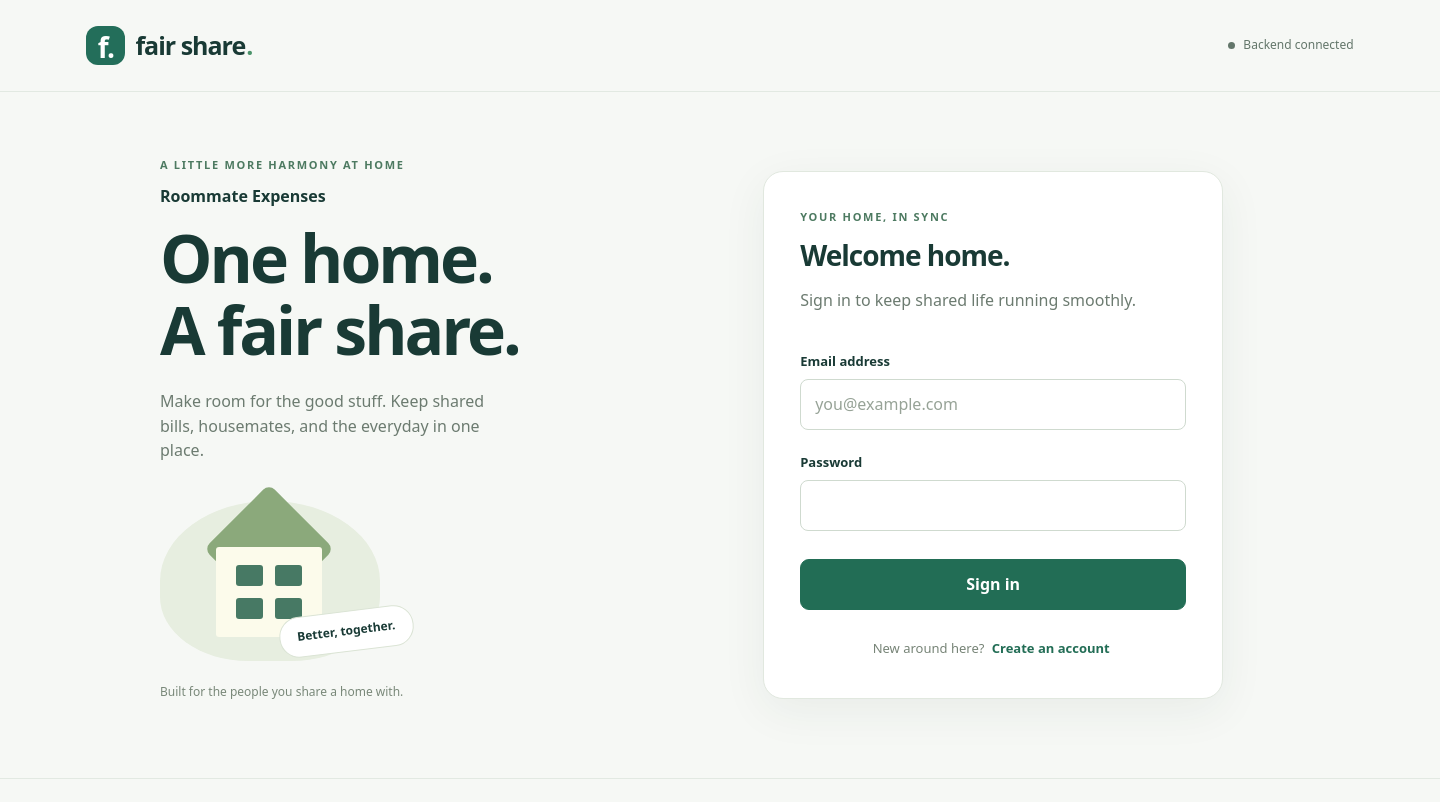
Test: account screens › shows safe sign-in errors and clears the password
Expected: the button "Sign in" is shown, [800,559,1186,610]
Type "alice@example.com" into the field labelled "Email address" at (993, 405), box [800,379,1186,430]
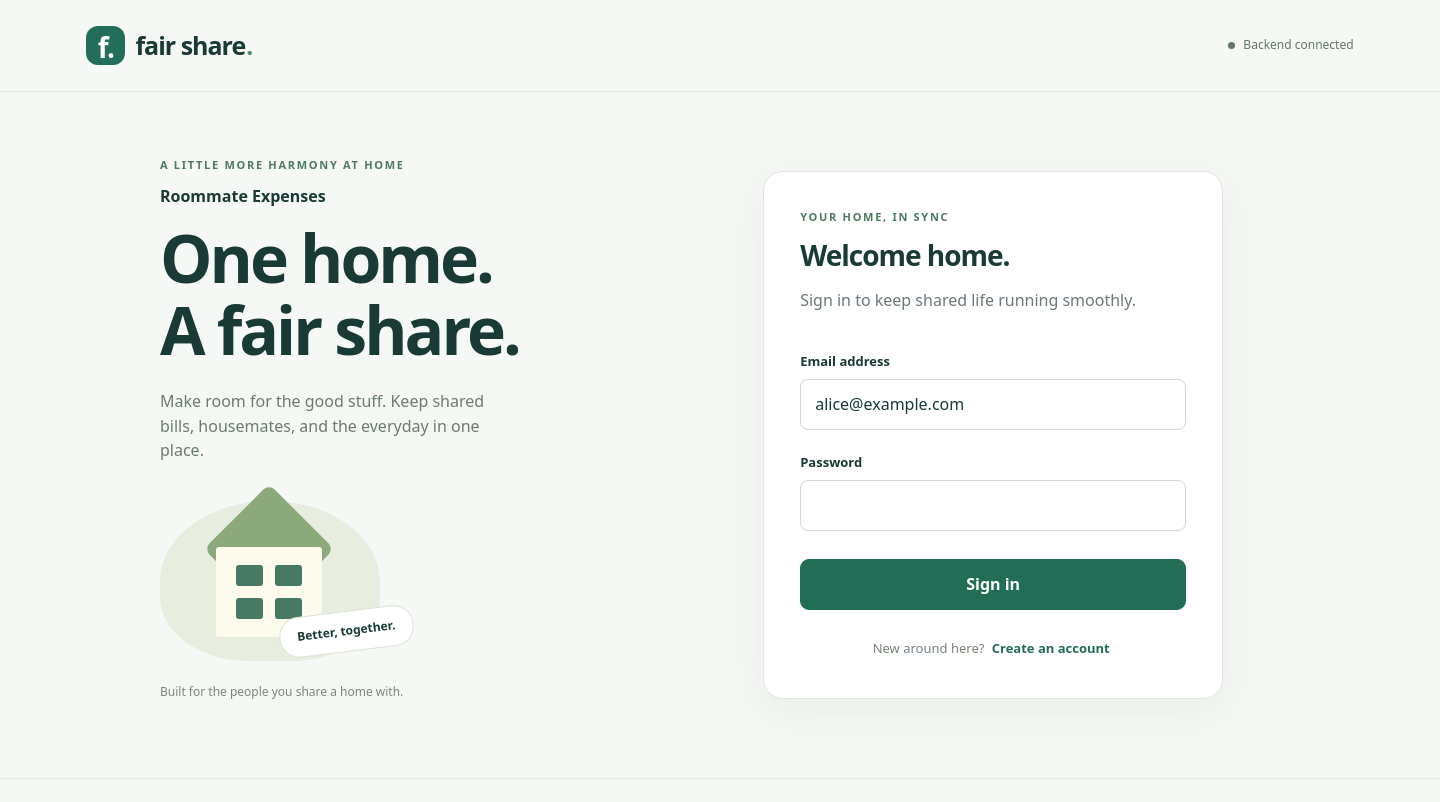
Type "correct-password" into the password field labelled "Password" at (993, 506), box [800,480,1186,531]
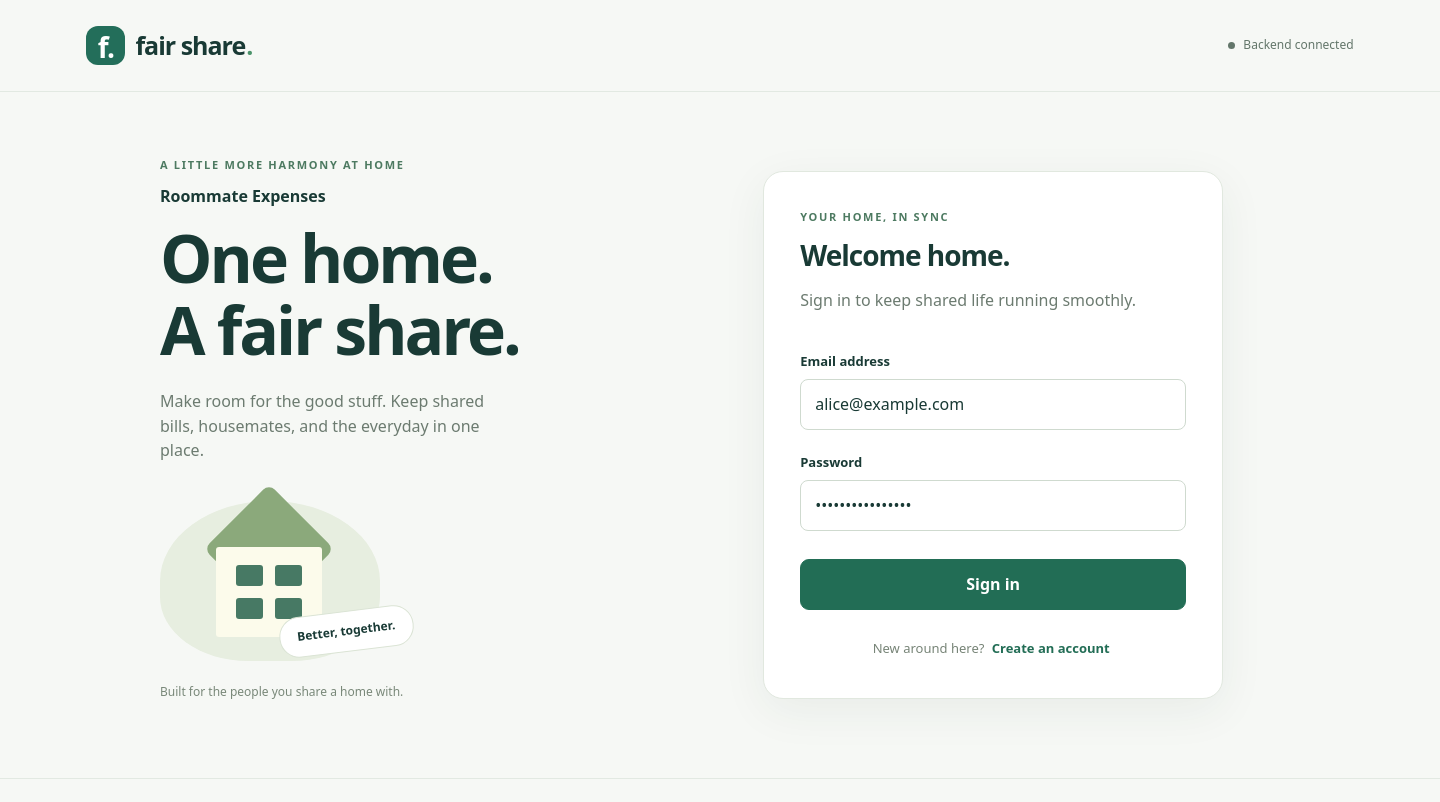
Click the button "Sign in" at (993, 584), box [800,559,1186,610]
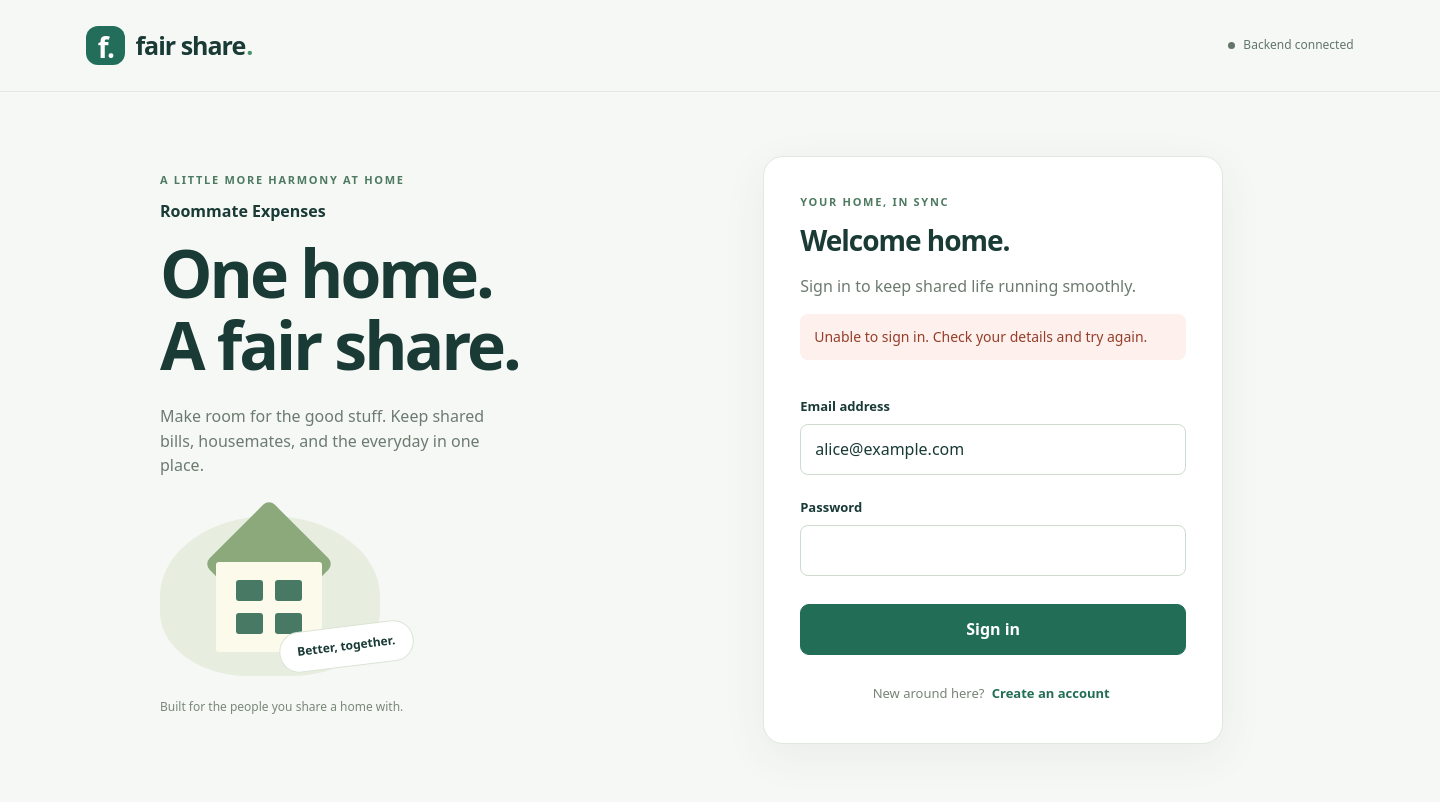
Expected: the message "Unable to sign in. Check your details and try again." is shown, [800,314,1186,360]
Expected: the password field labelled "Password" is empty, [800,525,1186,576]
